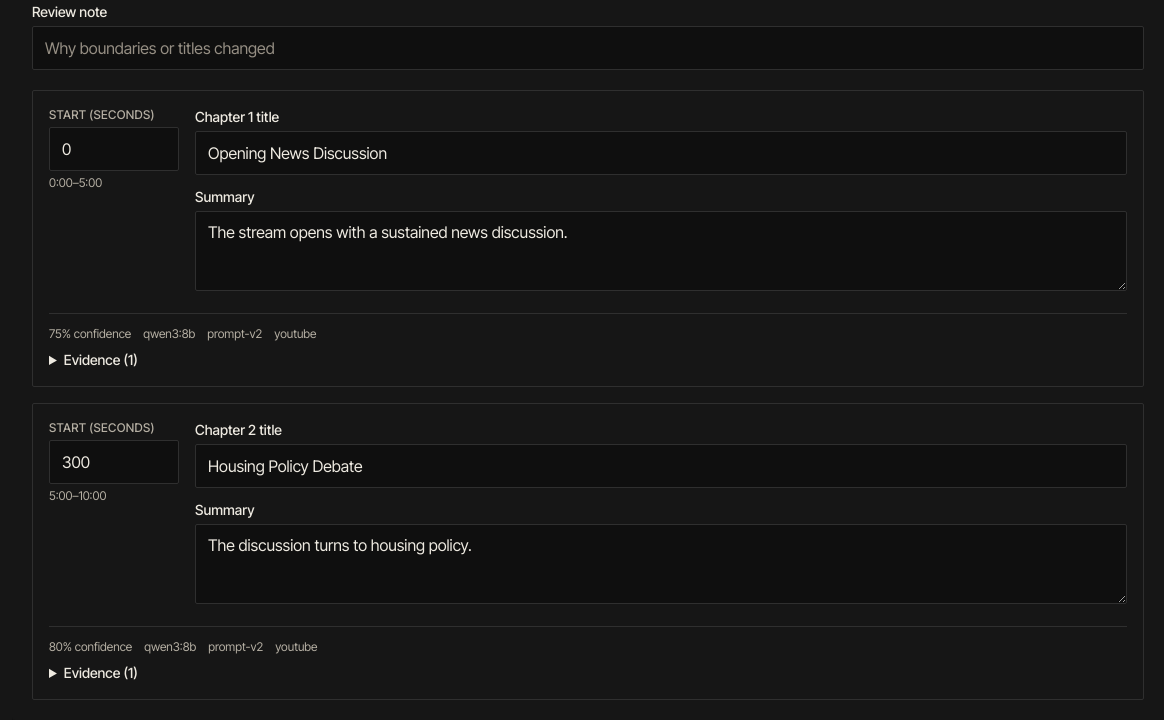
Test: AdminChapterReview › shows provenance and evidence and publishes the edited complete set
(page scrolled)
Check: the text "qwen3:8b" is shown 2 times, box [143,326,195,342]; [144,639,196,655]
Click the heading "Evidence (1)" below "80" at (101, 672), box [64,664,138,681]
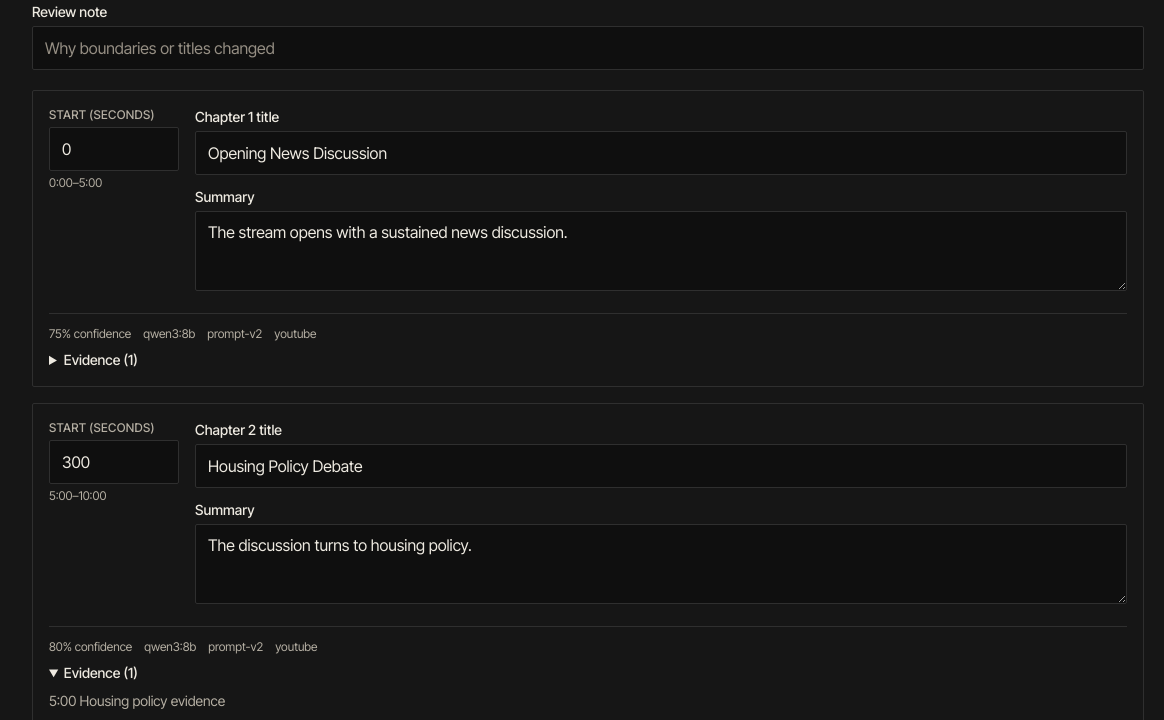
Check: the list item "Housing policy evidence" is shown, box [80,692,225,709]
Replace the text in the field labelled "Chapter 2 title" with "Rent and Housing Policy" at (661, 466), box [195,444,1127,488]
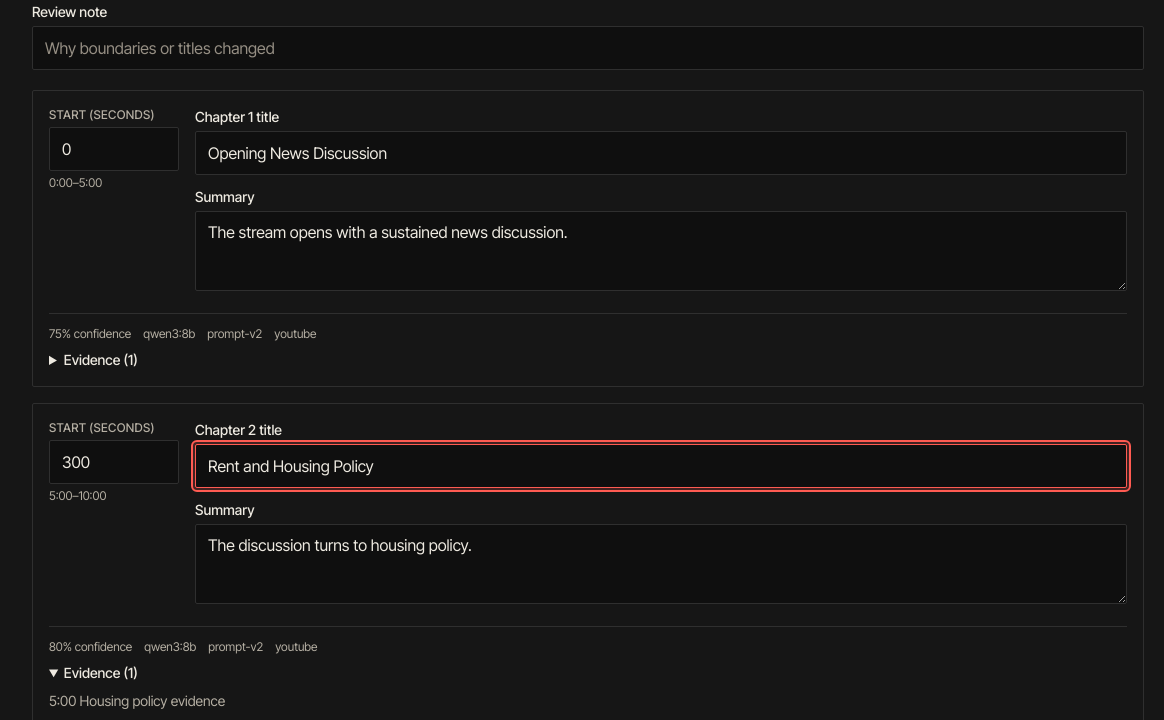
Replace the text in the 2nd number field labelled "Start (seconds)" with "360" at (114, 462), box [49,440,179,484]
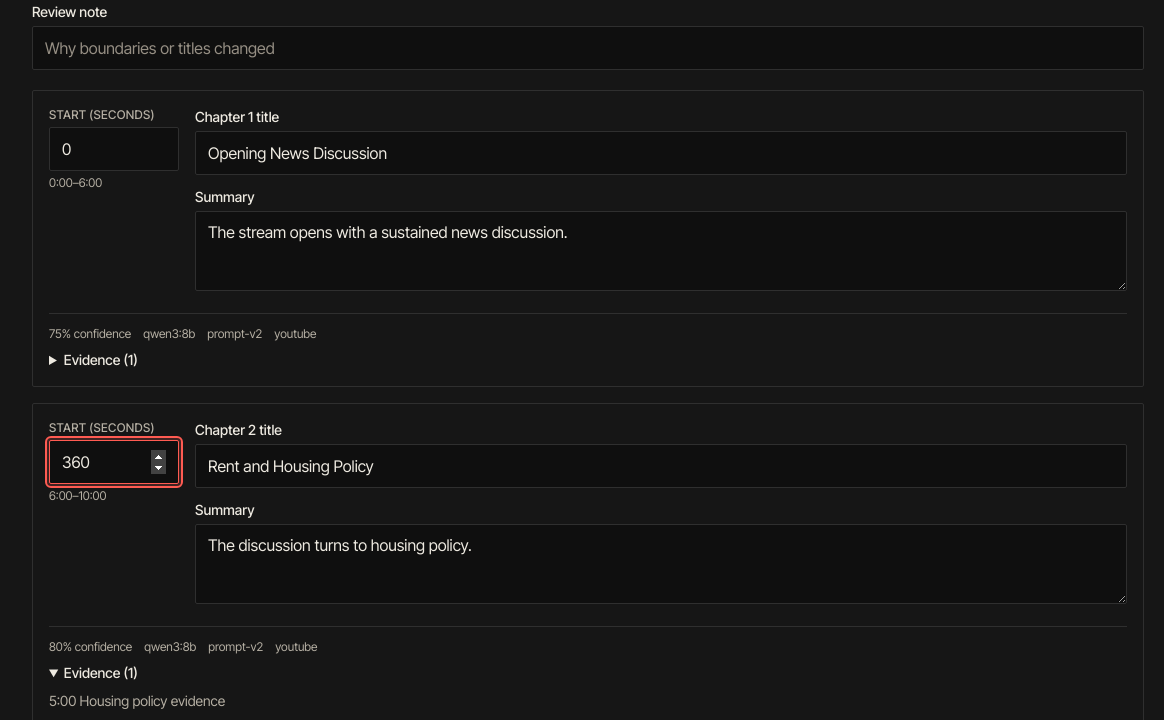
Type "Boundary follows the topic change" into the field labelled "Review note" at (588, 48), box [32,26,1144,70]
(page scrolled)
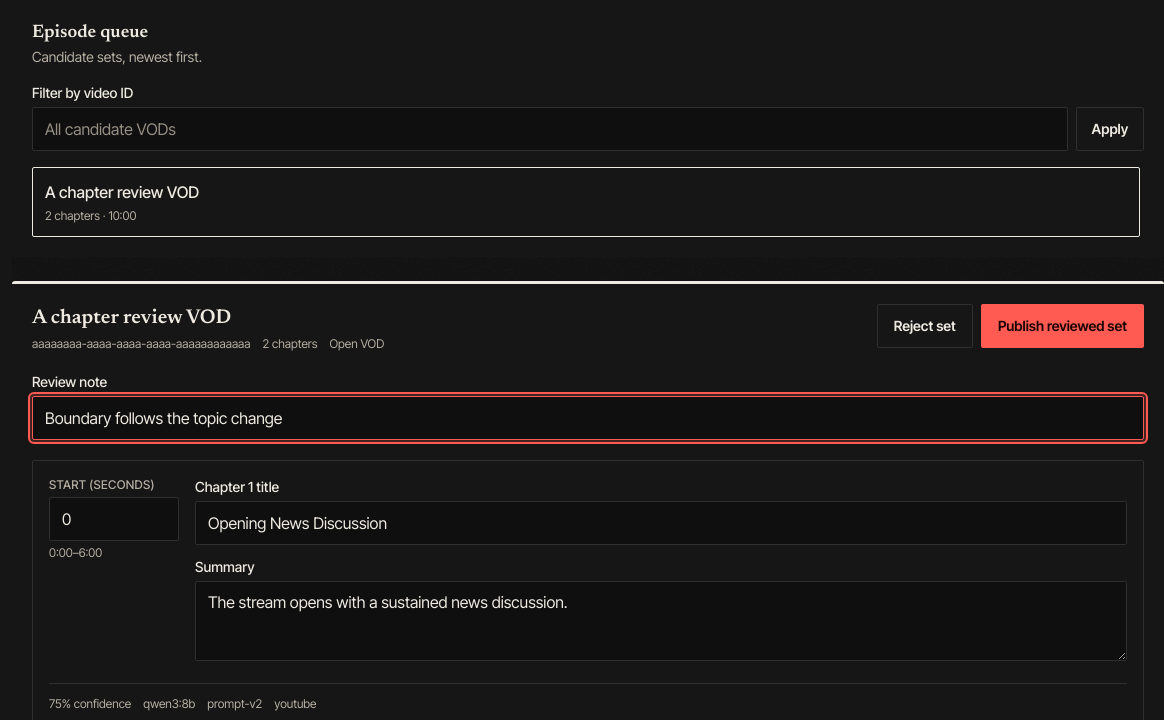
Click the button "Publish reviewed set" at (1062, 326), box [981,304,1144,348]
(page scrolled)
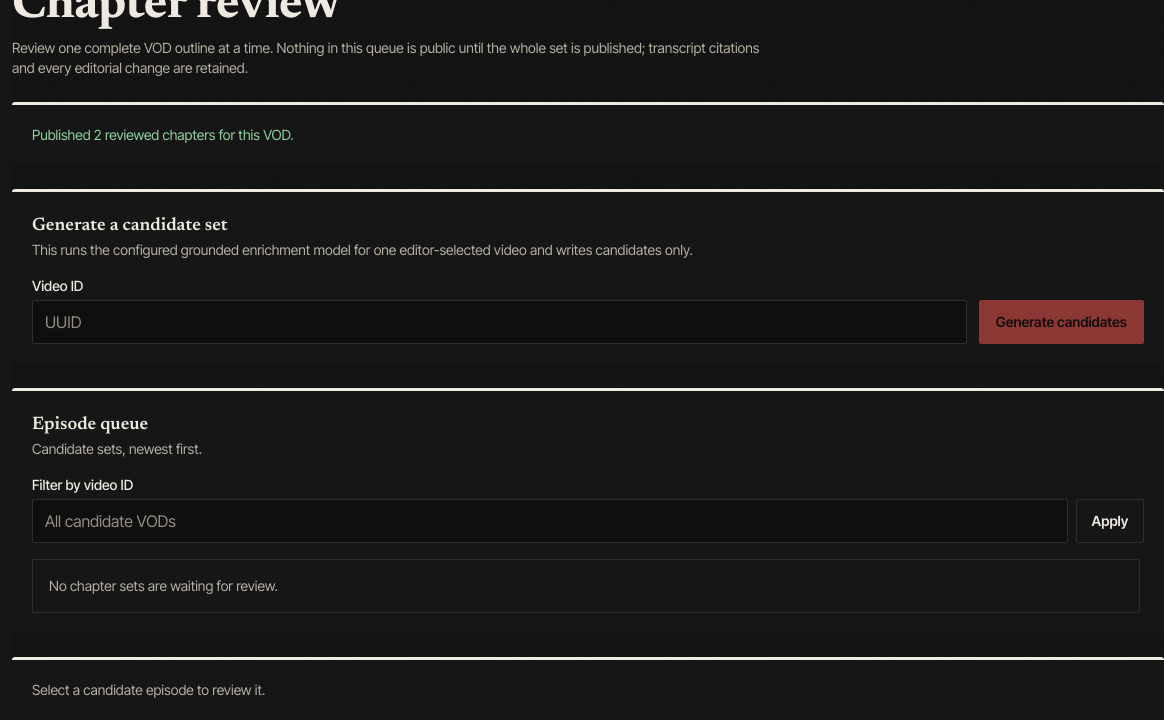
Check: the text "Published 2 reviewed chapters for this VOD." is shown, box [32,126,294,143]
